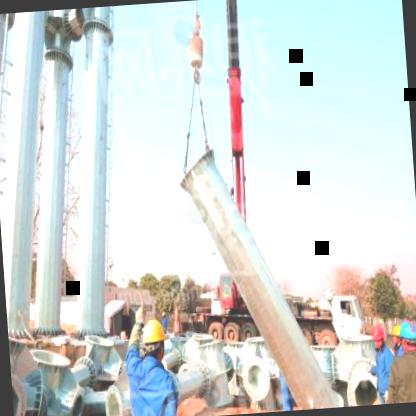helmet: (140, 316, 169, 362), (369, 320, 387, 352), (399, 319, 416, 350), (390, 324, 402, 346)
